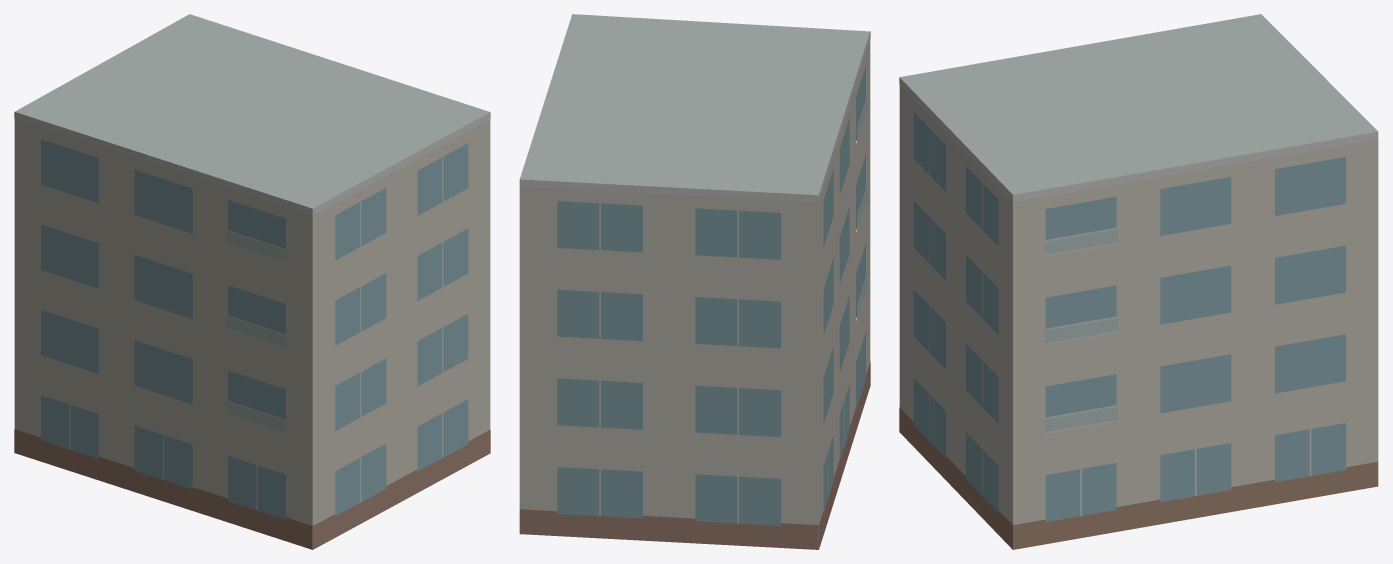
The model's file is survey-upis-33016118.glb.
The picture shows the model from 3 angles, left to right: view 1: azimuth 30°, elevation 25°; view 2: azimuth 150°, elevation 25°; view 3: azimuth 270°, elevation 25°; orthographic projection. The views are drawn at different scales.
Parts seen in each view (by area): view 1: survey-upis-33016118.tmp; view 2: survey-upis-33016118.tmp; view 3: survey-upis-33016118.tmp.
Boxes of the visible parts, bbox=[...] form: survey-upis-33016118.tmp: bbox=[14, 14, 490, 549]; survey-upis-33016118.tmp: bbox=[519, 14, 870, 549]; survey-upis-33016118.tmp: bbox=[899, 14, 1378, 549].
Size of the model in its own units: 13.02 by 11.9 by 14.56.
